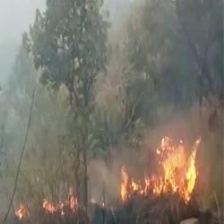fire: (117, 132, 203, 210), (3, 188, 98, 215)
